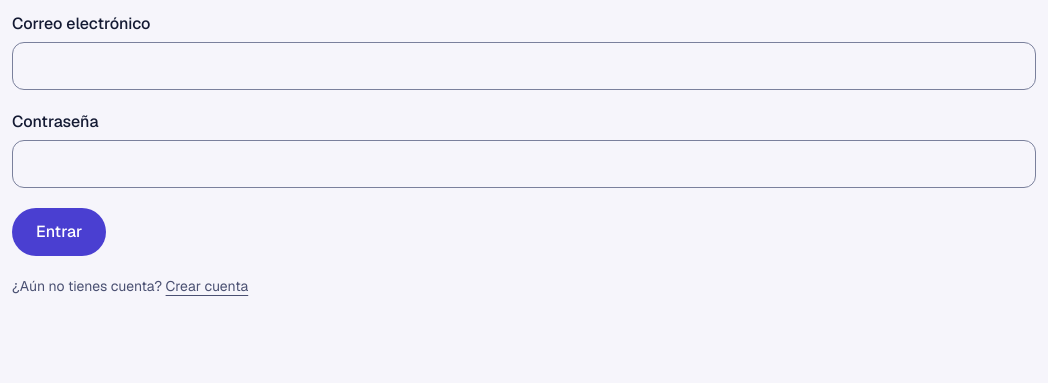
Scenario: SignInForm › shows a generic error that does not reveal whether the email exists
In the field labelled "Correo electrónico": (524,66) [12, 42, 1036, 90], type "a@example.com"
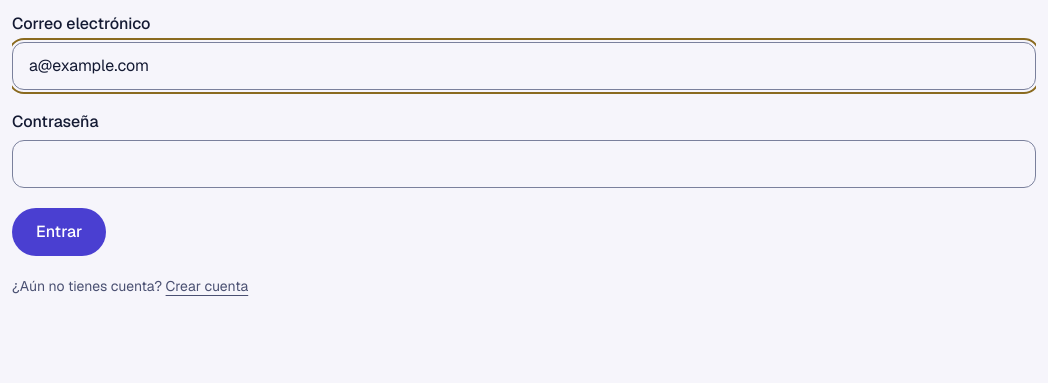
In the password field labelled "Contraseña": (524,164) [12, 140, 1036, 188], type "whatever-pass"
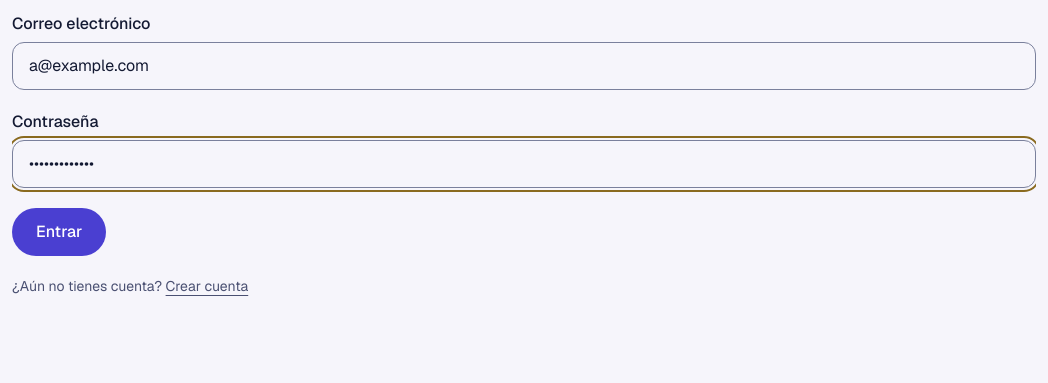
Click the button "Entrar": (59,232) [12, 208, 106, 256]
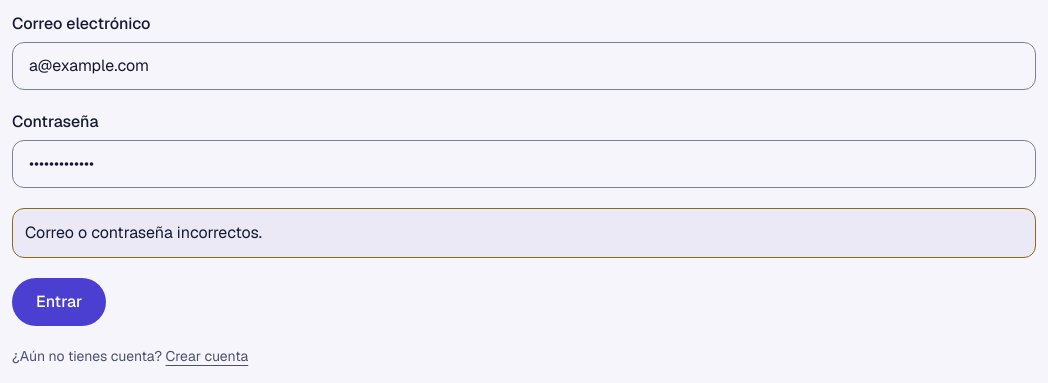
Now the message shows "Correo o contraseña incorrectos", box [25, 222, 262, 243]
